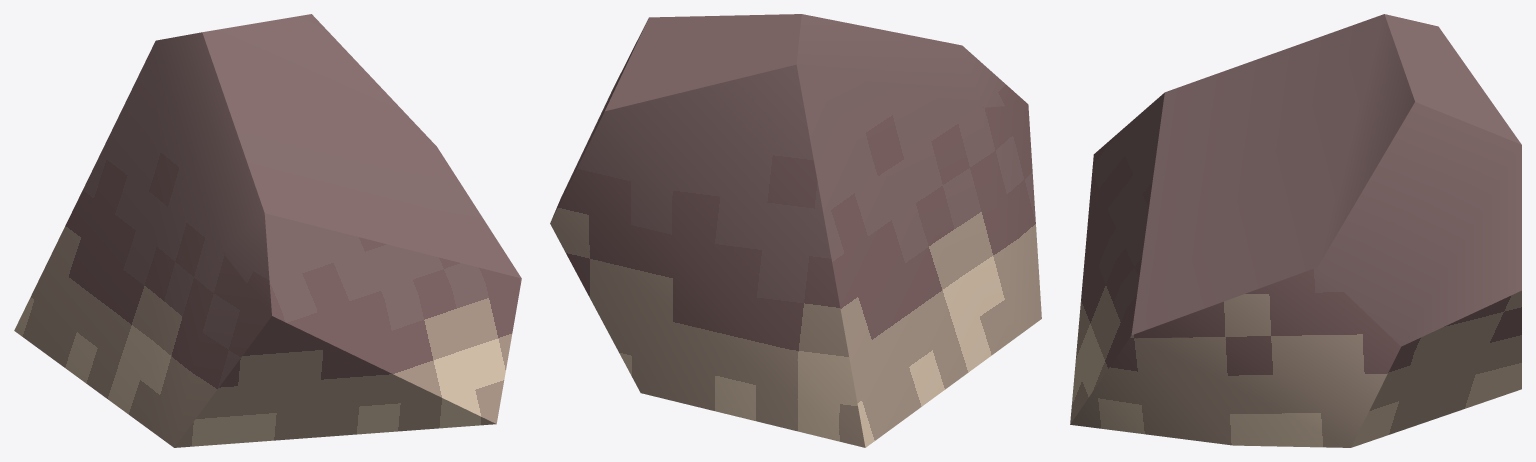
File: beachrock3.glb
The picture shows the model from 3 angles, left to right: view 1: azimuth 30°, elevation 25°; view 2: azimuth 150°, elevation 25°; view 3: azimuth 270°, elevation 25°; orthographic projection. The views are drawn at different scales.
Visible parts, largest first — view 1: Cube; view 2: Cube; view 3: Cube.
Part boxes in pixels (<box>): Cube: <box>14,14,521,447</box>; Cube: <box>550,14,1041,447</box>; Cube: <box>1070,14,1521,447</box>.
Bounding box in the file's own units: 0.1409 × 0.1285 × 0.1567.
1 material, 1 textured.
